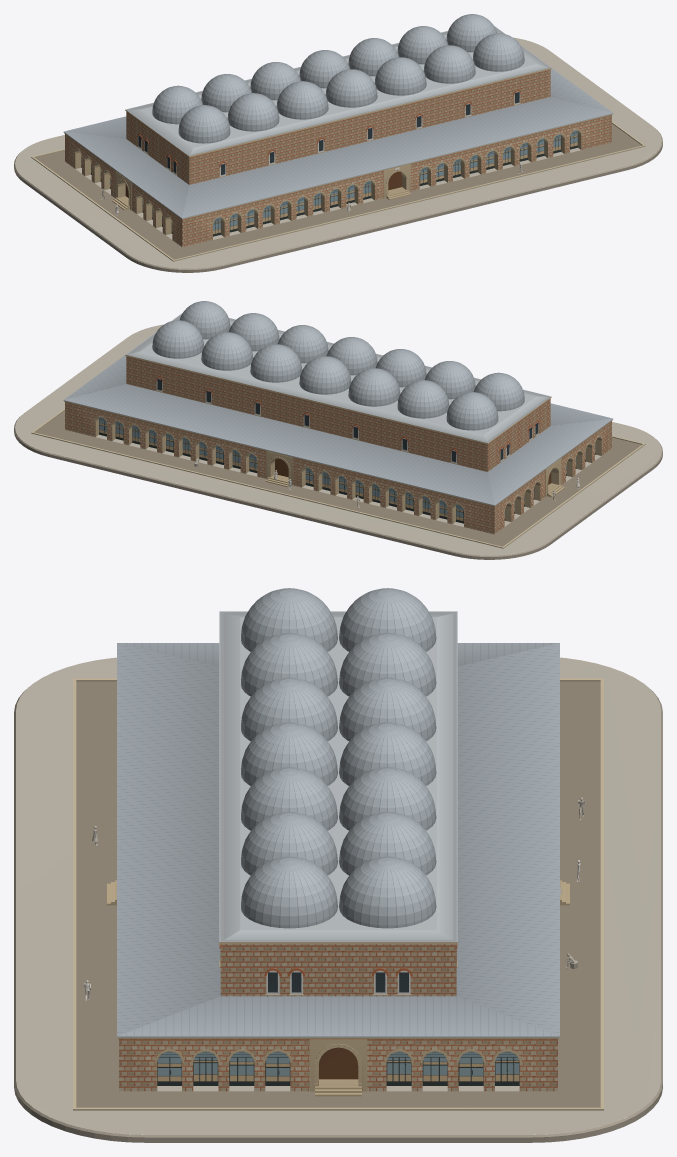
Rendered from bedesten_v04_sunum.glb.
3 renders of one model, top to bottom at view 1: azimuth 30°, elevation 25°; view 2: azimuth 150°, elevation 25°; view 3: azimuth 270°, elevation 25°, orthographic. The views are drawn at different scales.
Parts seen in each view (by area): view 1: Cati, Kubbeler, Zemin, Dukkanlar, Govde, Zemin_Serit, Sacak, Zemin_Bordur, Pencereler, Kapilar, Dukkan_Kapilari; view 2: Cati, Kubbeler, Zemin, Dukkanlar, Govde, Zemin_Serit, Sacak, Zemin_Bordur, Pencereler, Kapilar, Dukkan_Kapilari; view 3: Cati, Zemin, Kubbeler, Zemin_Serit, Dukkanlar, Govde, Zemin_Bordur, Sacak, Kapilar, Pencereler, Dukkan_Kapilari.
Part boxes in pixels (box(x1,y1,x2,y2)): Cati: box(63, 29, 613, 218); Kubbeler: box(152, 14, 524, 143); Zemin: box(14, 37, 662, 272); Dukkanlar: box(65, 115, 611, 247); Govde: box(126, 26, 550, 184); Zemin_Serit: box(35, 124, 641, 259); Sacak: box(64, 26, 612, 219); Zemin_Bordur: box(31, 121, 645, 261); Pencereler: box(137, 90, 521, 177); Kapilar: box(112, 164, 411, 210); Dukkan_Kapilari: box(74, 129, 582, 225); Cati: box(63, 316, 613, 505); Kubbeler: box(152, 301, 524, 430); Zemin: box(14, 324, 662, 559); Dukkanlar: box(65, 402, 611, 534); Govde: box(126, 314, 550, 471); Zemin_Serit: box(35, 411, 641, 546); Sacak: box(64, 313, 612, 506); Zemin_Bordur: box(31, 408, 645, 548); Pencereler: box(155, 377, 539, 464); Kapilar: box(265, 451, 564, 497); Dukkan_Kapilari: box(94, 416, 602, 512); Cati: box(117, 613, 559, 1037); Zemin: box(14, 657, 662, 1142); Kubbeler: box(241, 588, 436, 928); Zemin_Serit: box(76, 681, 600, 1107); Dukkanlar: box(119, 1039, 557, 1091); Govde: box(220, 612, 456, 996); Zemin_Bordur: box(73, 678, 603, 1110); Sacak: box(118, 611, 558, 1039); Kapilar: box(107, 880, 569, 1096); Pencereler: box(219, 944, 457, 995); Dukkan_Kapilari: box(155, 1049, 521, 1062).
Size of the model in its own units: 86.7 by 14.8 by 49.5.
Materials: 18 (5 with a texture image).
